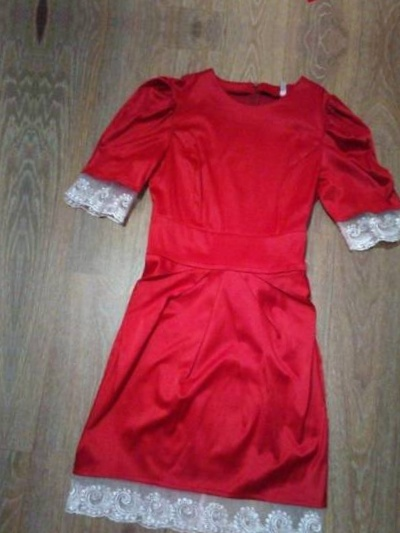Dress: (20, 35, 400, 533), (68, 0, 400, 32), (0, 0, 14, 533)
